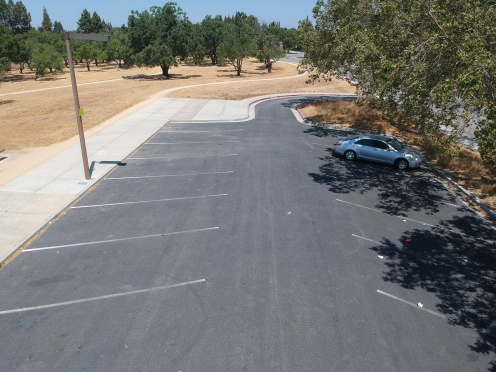can: (414, 295, 427, 314)
plastic bag: (403, 234, 412, 242)
